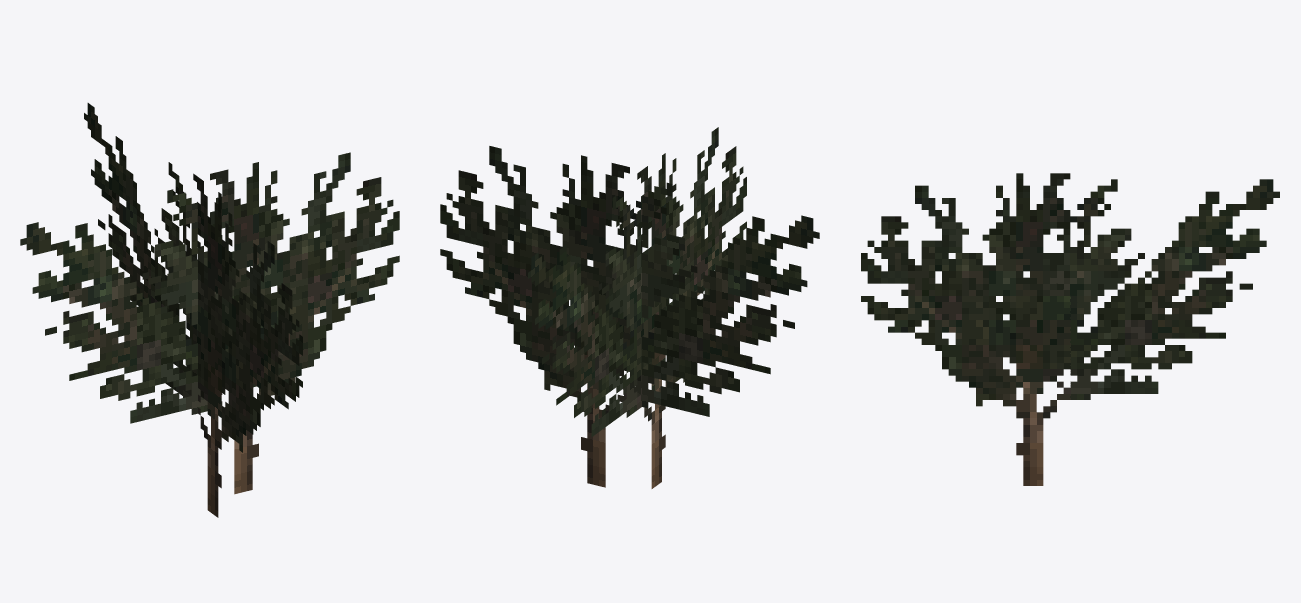
Rendered from mtns_shrb_evergreen_l3.fbx.
3 views of the same model, side by side, from view 1: azimuth 30°, elevation 25°; view 2: azimuth 150°, elevation 25°; view 3: azimuth 270°, elevation 25° (orthographic). The views are drawn at different scales.
Parts seen in each view (by area): view 1: mesh_node; view 2: mesh_node; view 3: mesh_node.
Boxes of the visible parts, x1=… form: mesh_node: x1=20, y1=103, x2=399, y2=517; mesh_node: x1=440, y1=127, x2=819, y2=488; mesh_node: x1=861, y1=173, x2=1279, y2=485.
Bounding box in the file's own units: 5.11 × 5.11 × 5.11.
